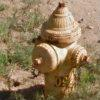Hydrant: (31, 2, 92, 93)
